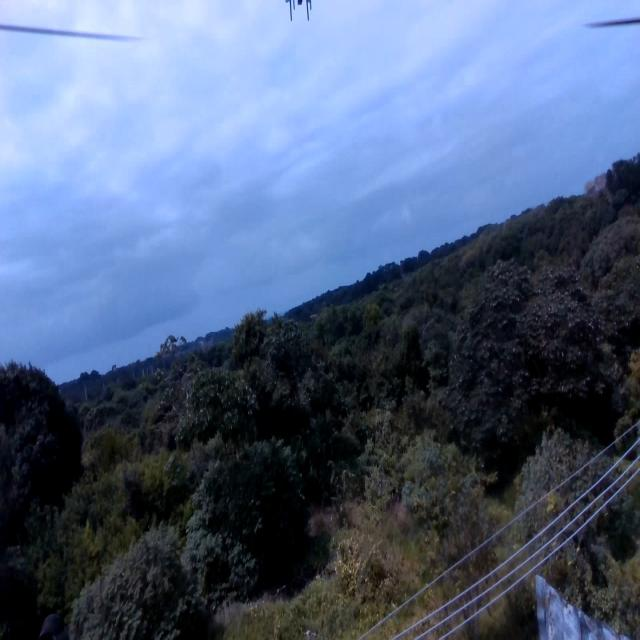-uav-: (285, 0, 316, 22)
